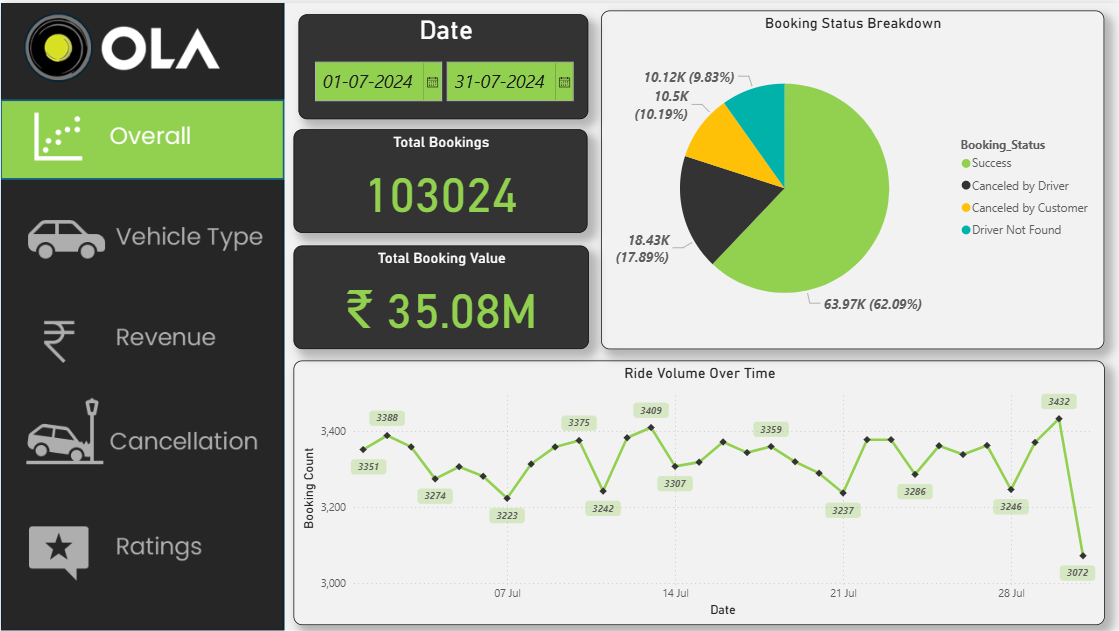

This screenshot's page, from the dashboard's own definition file:
{"tool":"powerbi","page":{"name":"Overall","canvas":[1280,720],"ordinal":0},"visuals":[{"type":"actionButton","box":[0,112.5,322.5,90],"z":0},{"type":"actionButton","box":[0,300,322.5,90],"z":1000},{"type":"actionButton","box":[0,345,322.5,88.8],"z":2000},{"type":"actionButton","box":[0,457.5,322.5,88.8],"z":3000},{"type":"actionButton","box":[0,580,322.5,88.8],"z":4000},{"type":"actionButton","box":[0,222.5,322.5,88.8],"z":5000},{"type":"lineChart","title":"Ride Volume Over Time","fields":{"Y":["CountNonNull(July.Booking_ID)"],"Category":["July.Date"]},"box":[333.8,408.8,927.5,302.5],"z":6000},{"type":"pieChart","title":"Booking Status Breakdown","fields":{"Category":["Ola July Data.Booking_Status"],"Y":["CountNonNull(Ola July Data.Booking_Status)"]},"box":[686.2,8.8,575,387.5],"z":7000},{"type":"card","title":"Total Bookings","fields":{"Values":["CountNonNull(Ola July Data.Booking_ID)"]},"box":[335,143.8,336.2,118.8],"z":9000},{"type":"card","title":"Total Booking Value","fields":{"Values":["Sum(Ola July Data.Booking_Value)"]},"box":[333.8,277.5,337.5,118.8],"z":10000},{"type":"slicer","title":"Date","fields":{"Values":["Ola July Data.Date"]},"box":[340,12.9,331.4,120],"z":10001}]}

Visuals, with their boxes in screenshot pixels (x1, y1, x2, y2), scaled from the page's 1280x720 canvas onto the 1119x631 screenshot:
actionButton: BBox(0, 99, 282, 177)
actionButton: BBox(0, 263, 282, 342)
actionButton: BBox(0, 302, 282, 380)
actionButton: BBox(0, 401, 282, 479)
actionButton: BBox(0, 508, 282, 586)
actionButton: BBox(0, 195, 282, 273)
"Ride Volume Over Time" lineChart: BBox(292, 358, 1103, 623)
"Booking Status Breakdown" pieChart: BBox(600, 8, 1103, 347)
"Total Bookings" card: BBox(293, 126, 587, 230)
"Total Booking Value" card: BBox(292, 243, 587, 347)
"Date" slicer: BBox(297, 11, 587, 116)
